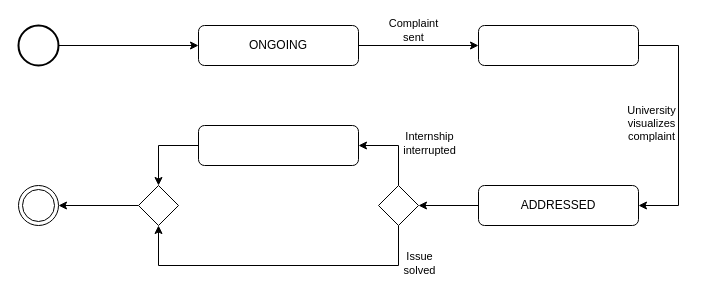
The diagram is 704 pixels wide and 293 high, and some of its shapes have lost their labels. The shapes that lost their labels are listed below. From the top down, each one's box as (x1, y1, x2, y2) in pixels, then its label:
(478, 24, 638, 66): ISSUE
(198, 124, 358, 166): CONCLUDED
